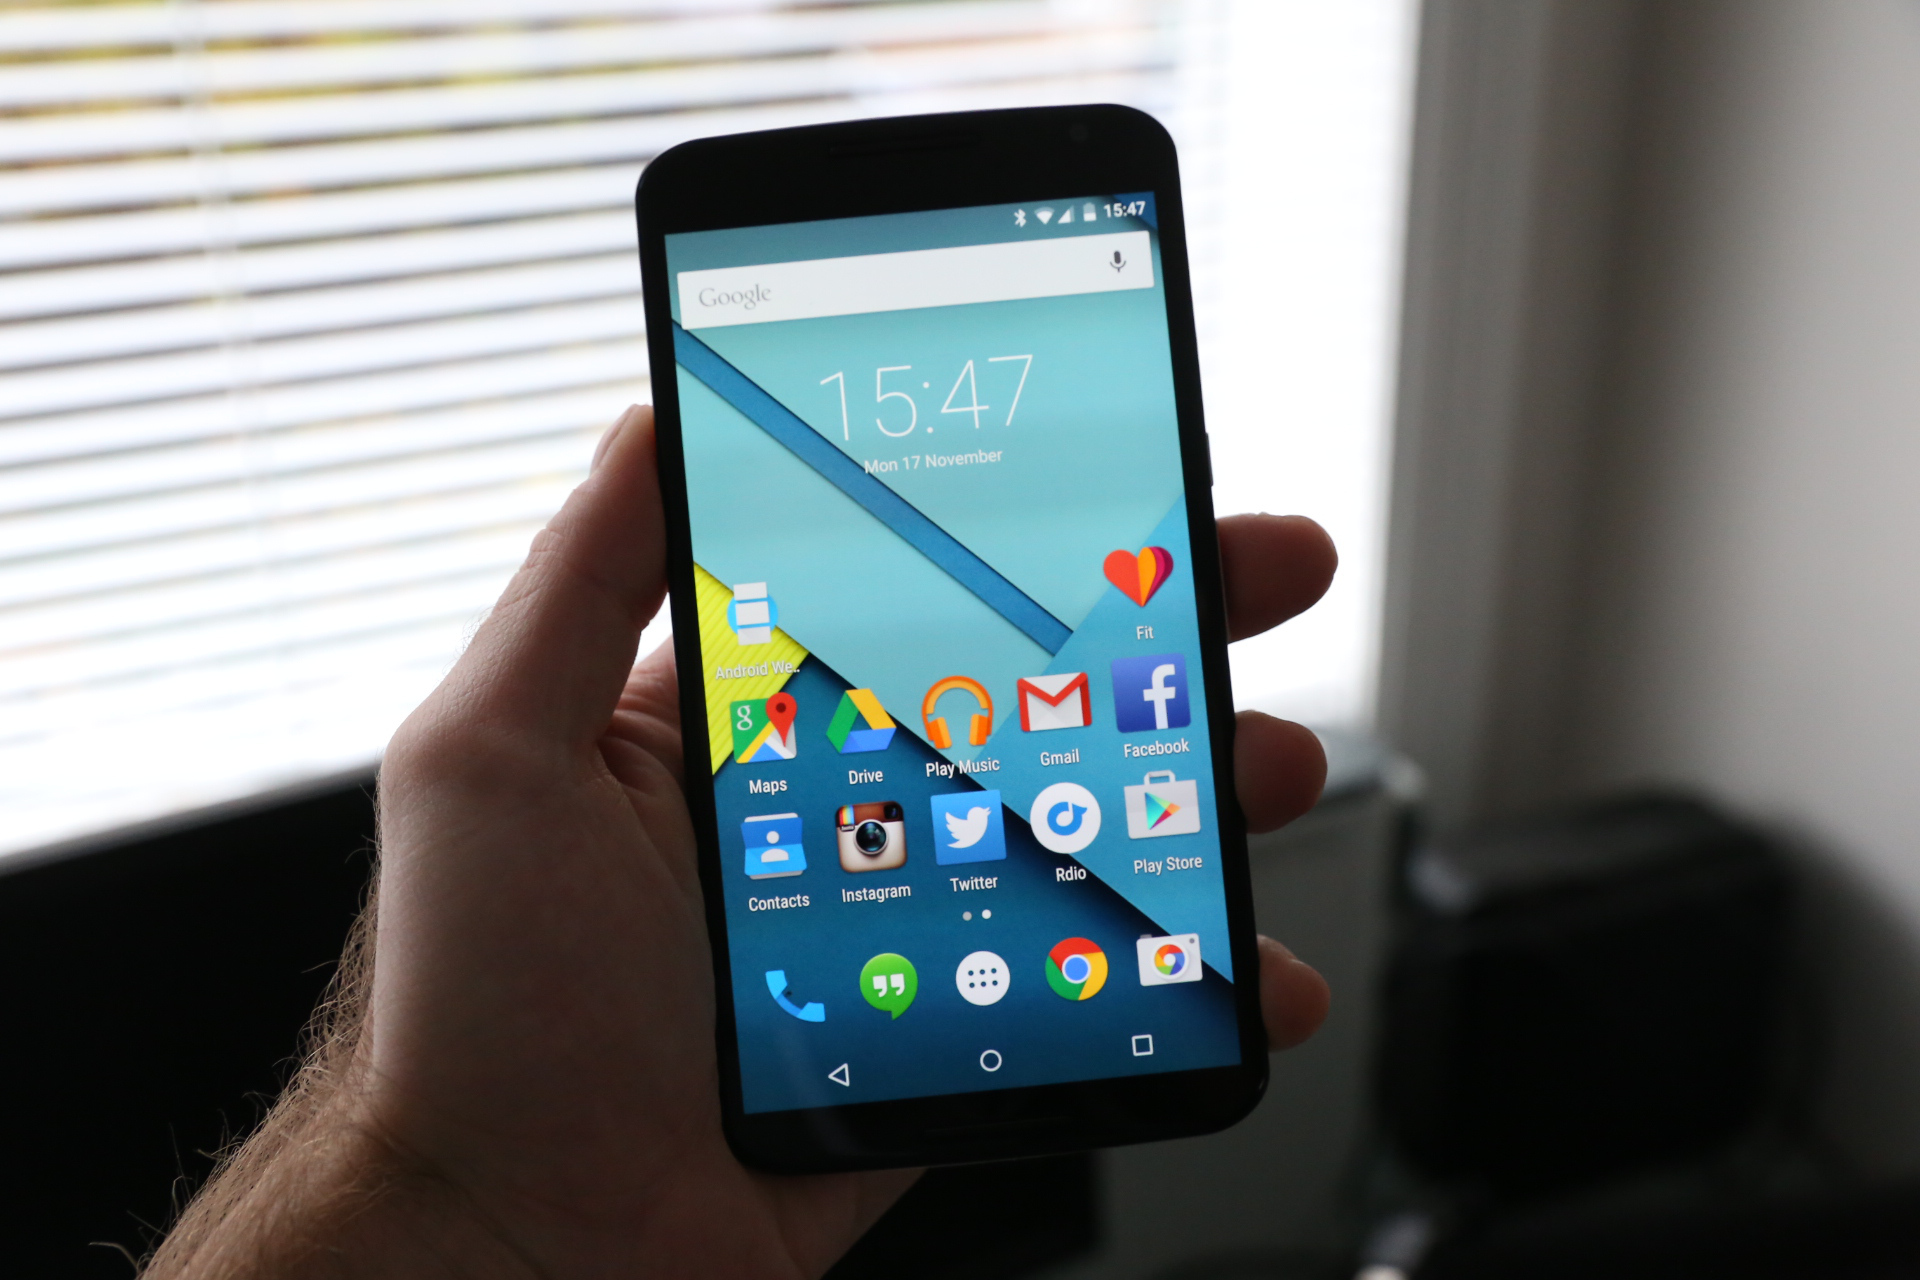smartphone: (633, 101, 1273, 1183)
